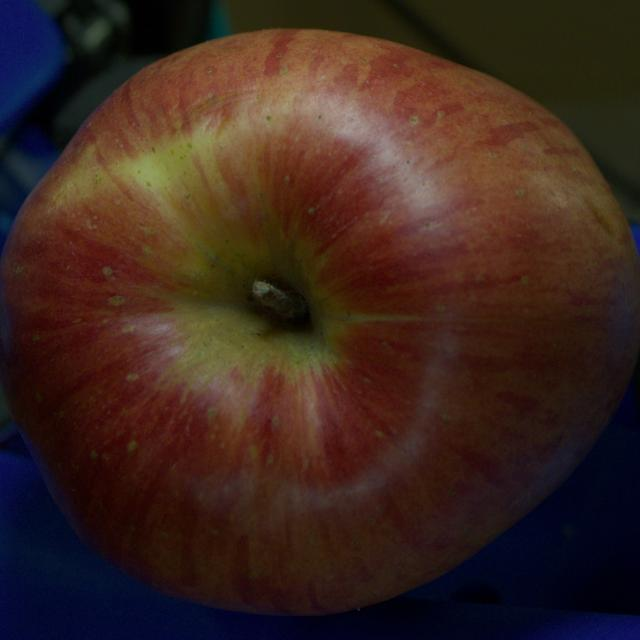apple: (0, 30, 639, 615)
scratch: (159, 84, 260, 129)
